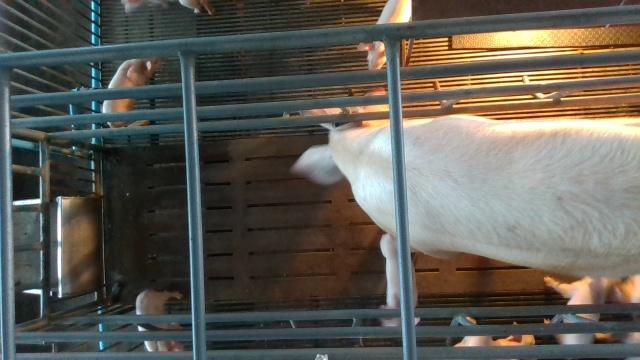piglet: (543, 273, 611, 344), (103, 57, 163, 128), (378, 232, 420, 327), (356, 0, 412, 71), (134, 288, 185, 353), (453, 322, 535, 345)
sow-stand: (288, 89, 640, 279)
